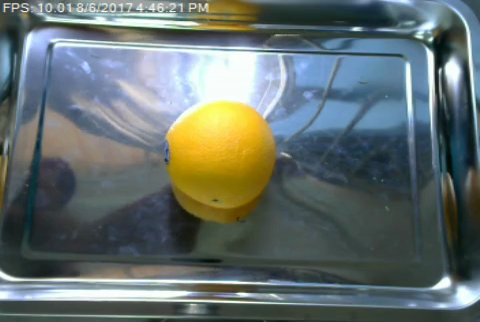Orange: (164, 100, 274, 208)
